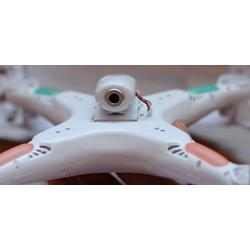drone: (1, 69, 250, 185)
